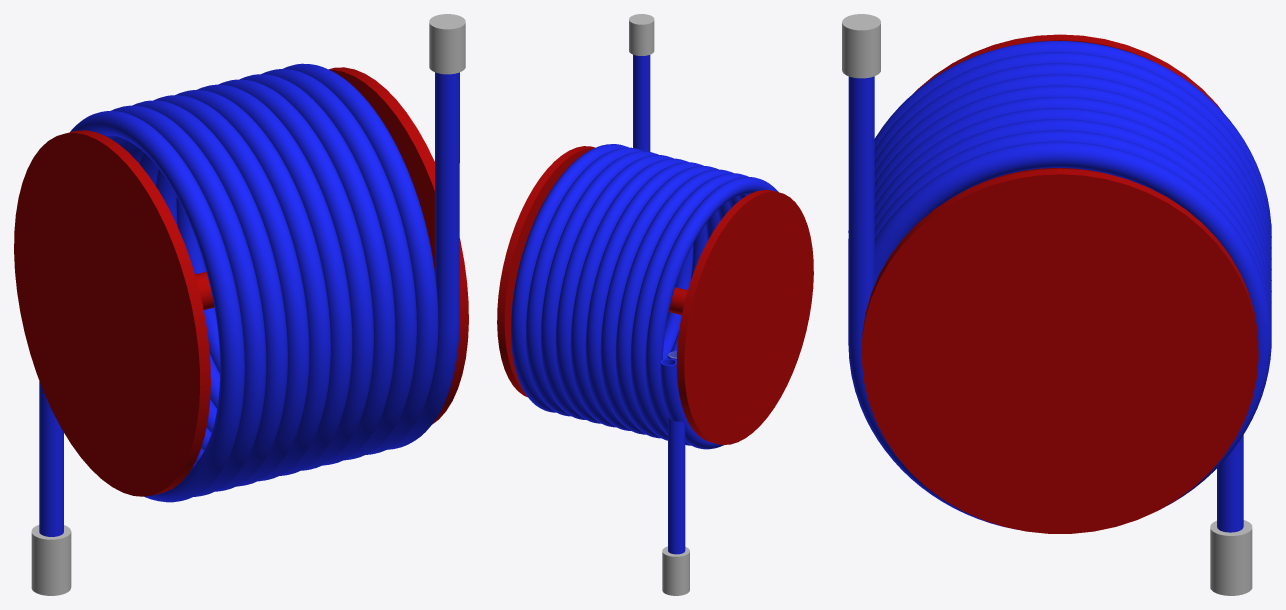
The model's file is fire-hose.glb.
3 views of the same model, side by side, from view 1: azimuth 30°, elevation 25°; view 2: azimuth 150°, elevation 25°; view 3: azimuth 270°, elevation 25° (orthographic). The views are drawn at different scales.
Visible parts, largest first — view 1: Solid2, Solid1, Solid4, Solid5, Solid3; view 2: Solid2, Solid1, Solid4, Solid5, Solid3; view 3: Solid1, Solid2, Solid5, Solid3, Solid4.
Boxes of the visible parts, <box> form: Solid2: <box>70,63,459,502</box>; Solid1: <box>14,67,468,496</box>; Solid4: <box>39,381,63,536</box>; Solid5: <box>31,525,71,595</box>; Solid3: <box>429,14,465,74</box>; Solid2: <box>511,54,778,449</box>; Solid1: <box>497,146,813,444</box>; Solid4: <box>668,351,685,554</box>; Solid5: <box>662,546,689,595</box>; Solid3: <box>629,14,654,55</box>; Solid1: <box>861,34,1258,533</box>; Solid2: <box>848,41,1271,529</box>; Solid5: <box>1210,520,1252,595</box>; Solid3: <box>842,14,880,78</box>; Solid4: <box>1217,435,1243,532</box>.
Bounding box in the file's own units: 0.5 × 1.13 × 0.6493.
